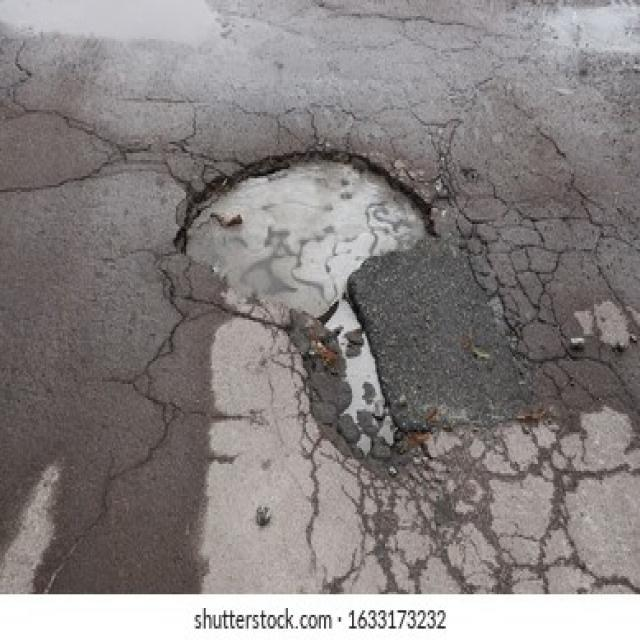Pothole: (176, 144, 433, 332)
